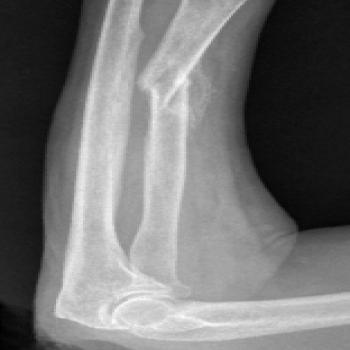Fracture: (139, 58, 209, 116)
